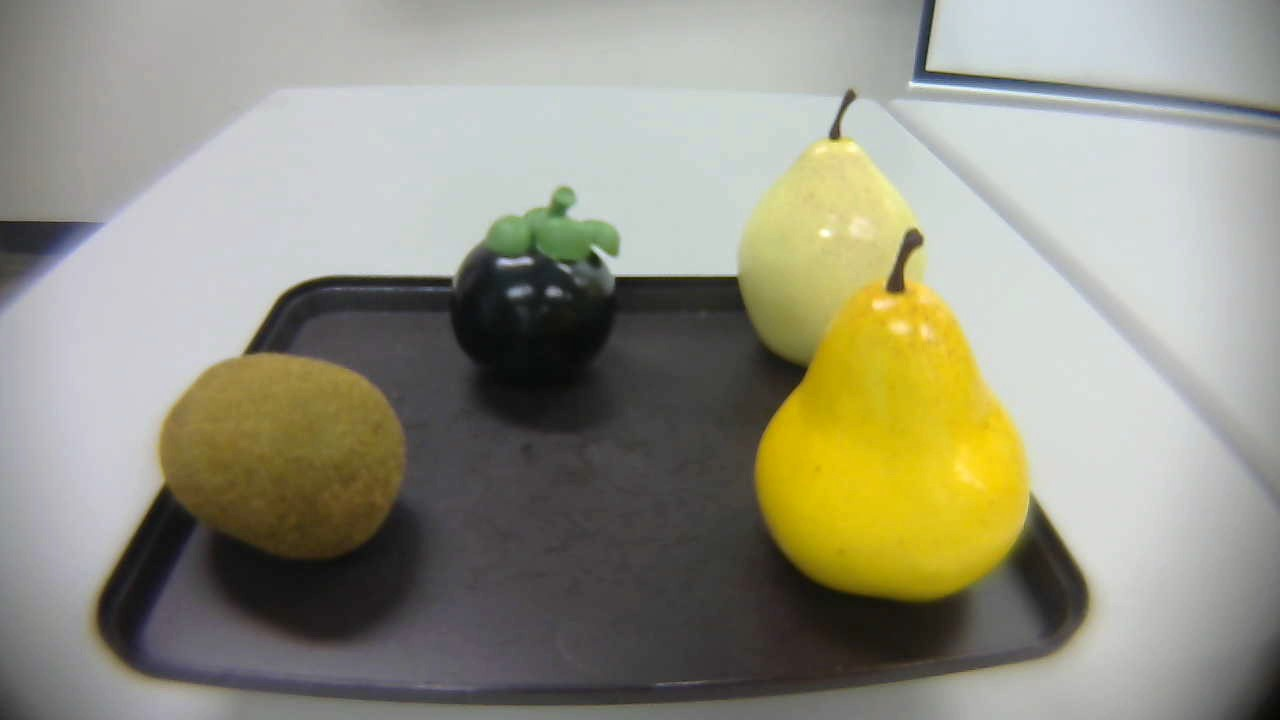kiwi fruit: (157, 344, 420, 584)
mangosteen: (445, 184, 633, 397)
western pear: (728, 76, 927, 368)
yellow pear: (740, 223, 1048, 613)
